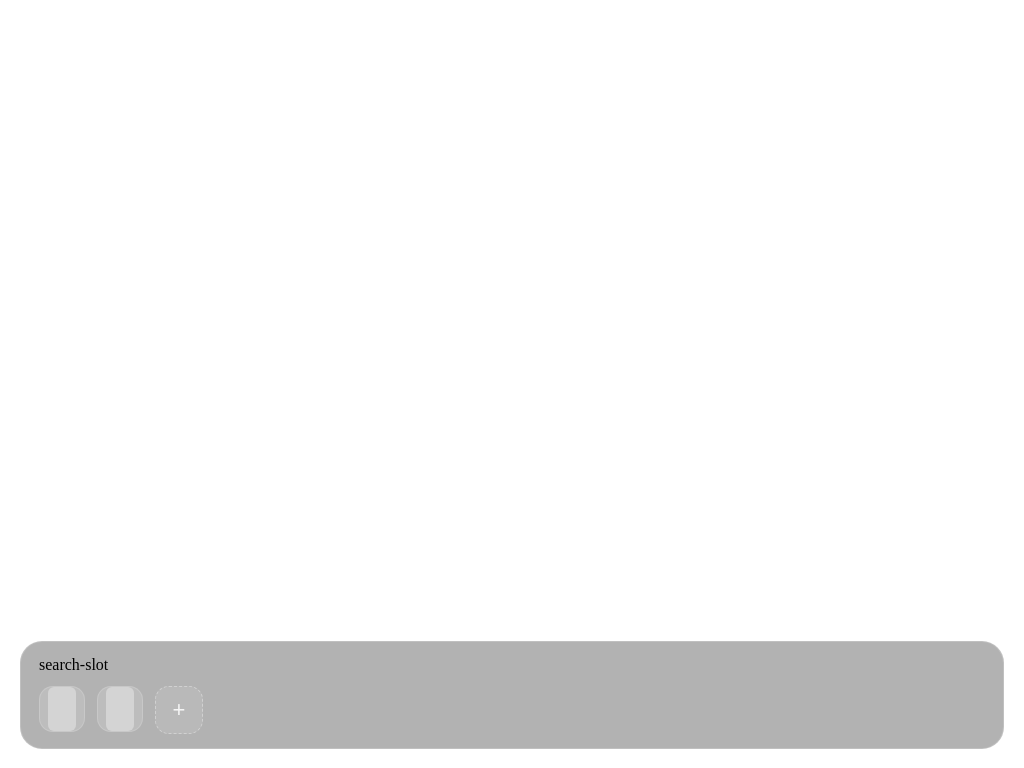
Scenario: ShortcutDock 右键菜单（0003 改善 1/2） › 删除需两步确认，确认后快捷方式移除并重排 order
The width and height of the screenshot is (1024, 768).
Right-click the link named "第一站": point(62, 709) [39,686,85,732]
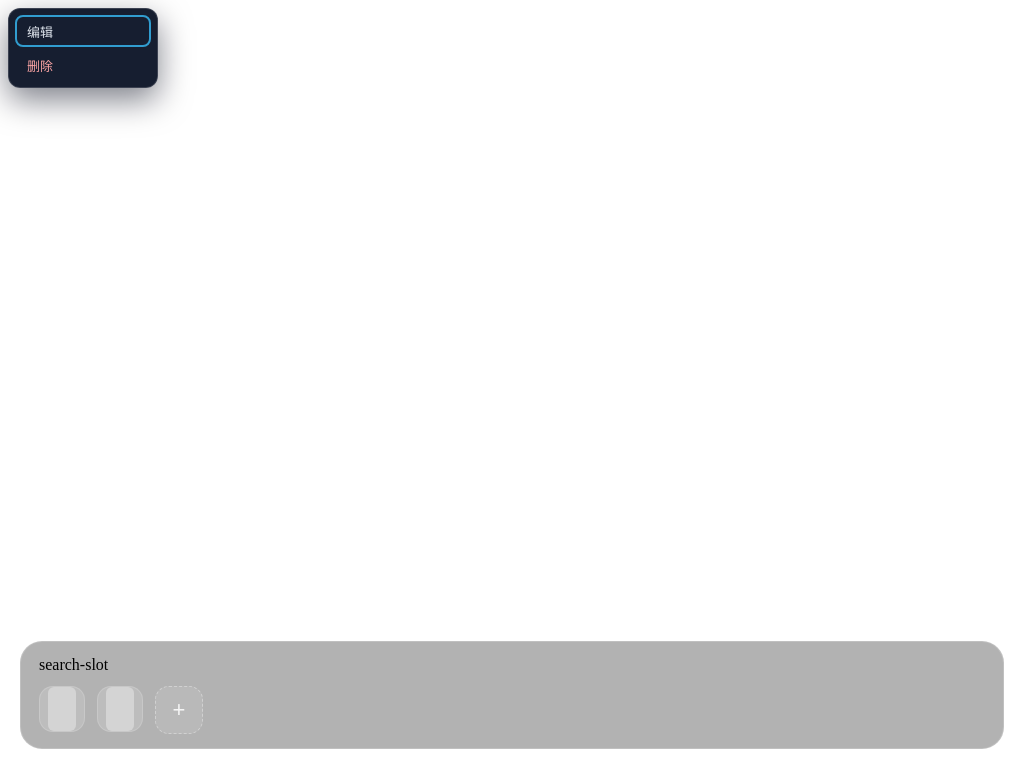
Click the menu item "删除": point(83, 65) [15,49,151,81]
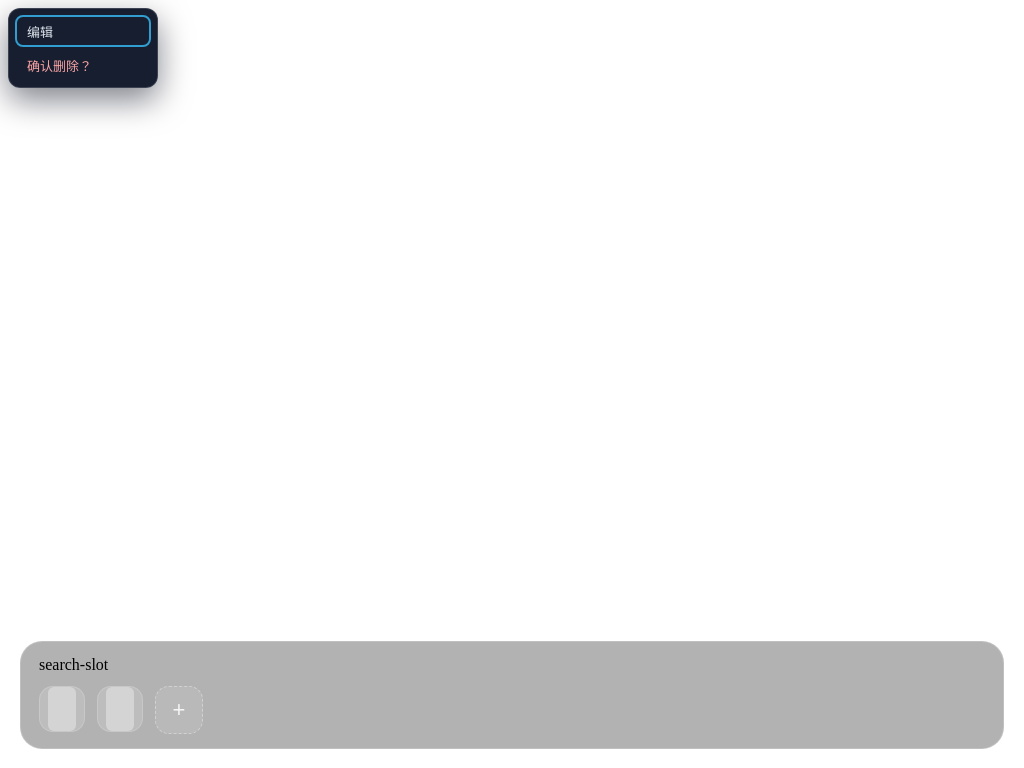
Check: the menu item "确认删除？" is shown
Click the menu item "确认删除？": point(83, 65) [15,49,151,81]
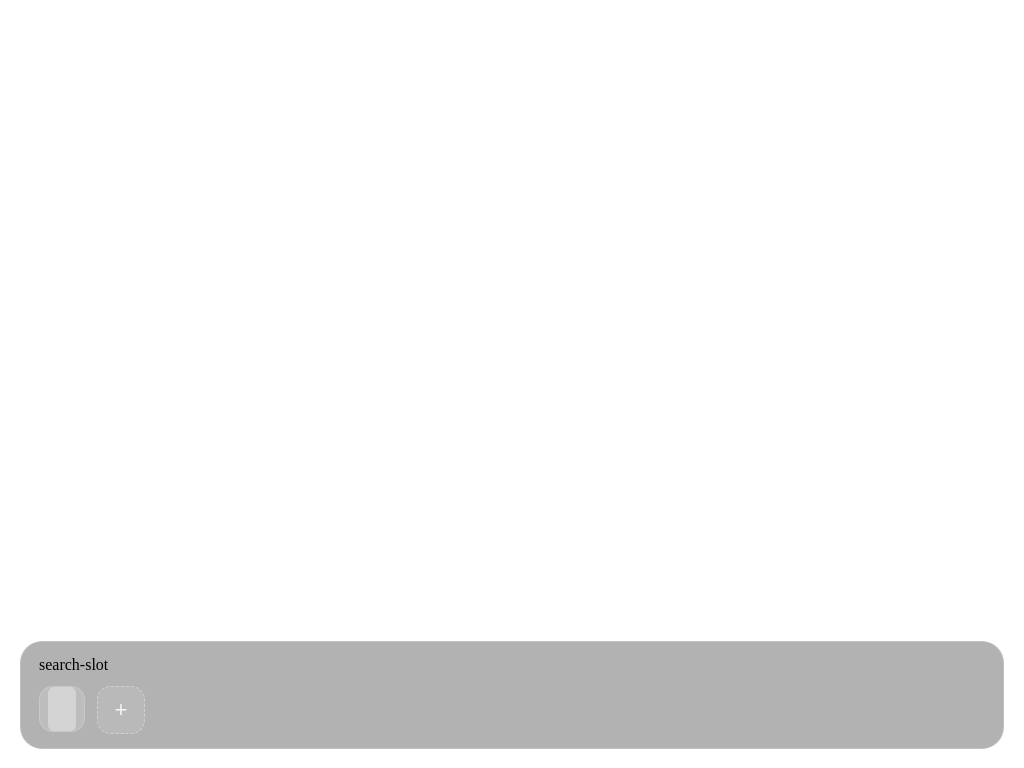
Check: the menu is gone
